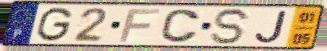2: (73, 7, 109, 43)
C: (158, 8, 202, 44)
F: (117, 7, 163, 43)
G: (34, 6, 75, 43)
J: (253, 9, 290, 45)
S: (209, 7, 254, 46)
